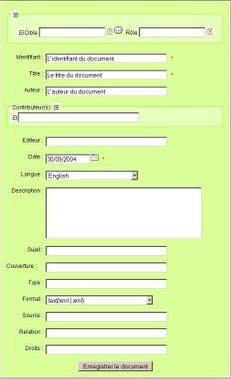button: (78, 361, 155, 373)
field: (44, 186, 201, 240), (44, 52, 169, 65), (43, 277, 168, 290), (44, 261, 168, 274), (44, 310, 168, 323), (44, 244, 167, 257), (44, 343, 167, 356), (42, 85, 168, 97), (44, 68, 168, 80), (17, 112, 141, 124), (44, 135, 167, 147), (43, 327, 167, 338), (45, 295, 154, 306), (46, 170, 139, 181), (138, 25, 207, 39), (37, 26, 106, 37), (45, 153, 93, 164)
field_with_label: (12, 185, 203, 242), (13, 104, 142, 126), (7, 260, 169, 275), (16, 51, 171, 66), (26, 342, 168, 358), (23, 309, 170, 324), (22, 134, 168, 149), (27, 243, 168, 258), (28, 276, 169, 291), (25, 84, 169, 98), (29, 67, 169, 81), (18, 326, 168, 339), (22, 294, 155, 307), (20, 168, 140, 182), (125, 23, 208, 41), (25, 24, 107, 38), (27, 152, 94, 165)
